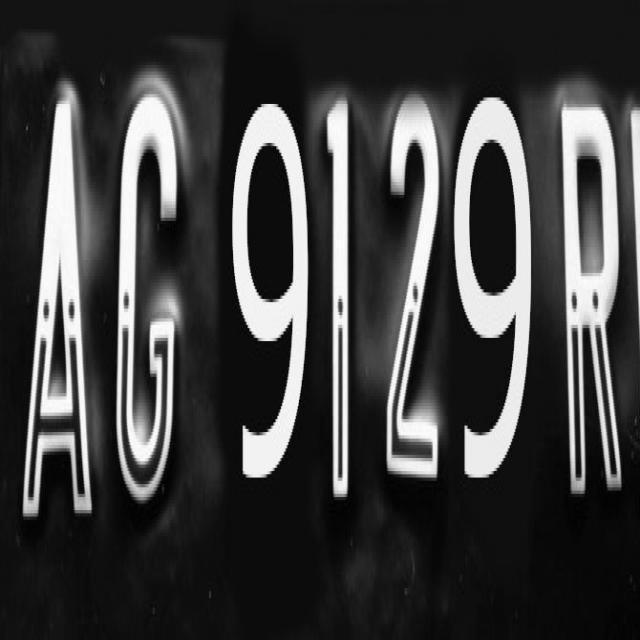1: (316, 100, 366, 502)
2: (376, 83, 438, 477)
9: (448, 88, 546, 481), (233, 96, 311, 497)
A: (9, 78, 103, 531)
G: (106, 82, 194, 500)
R: (560, 90, 620, 494)
